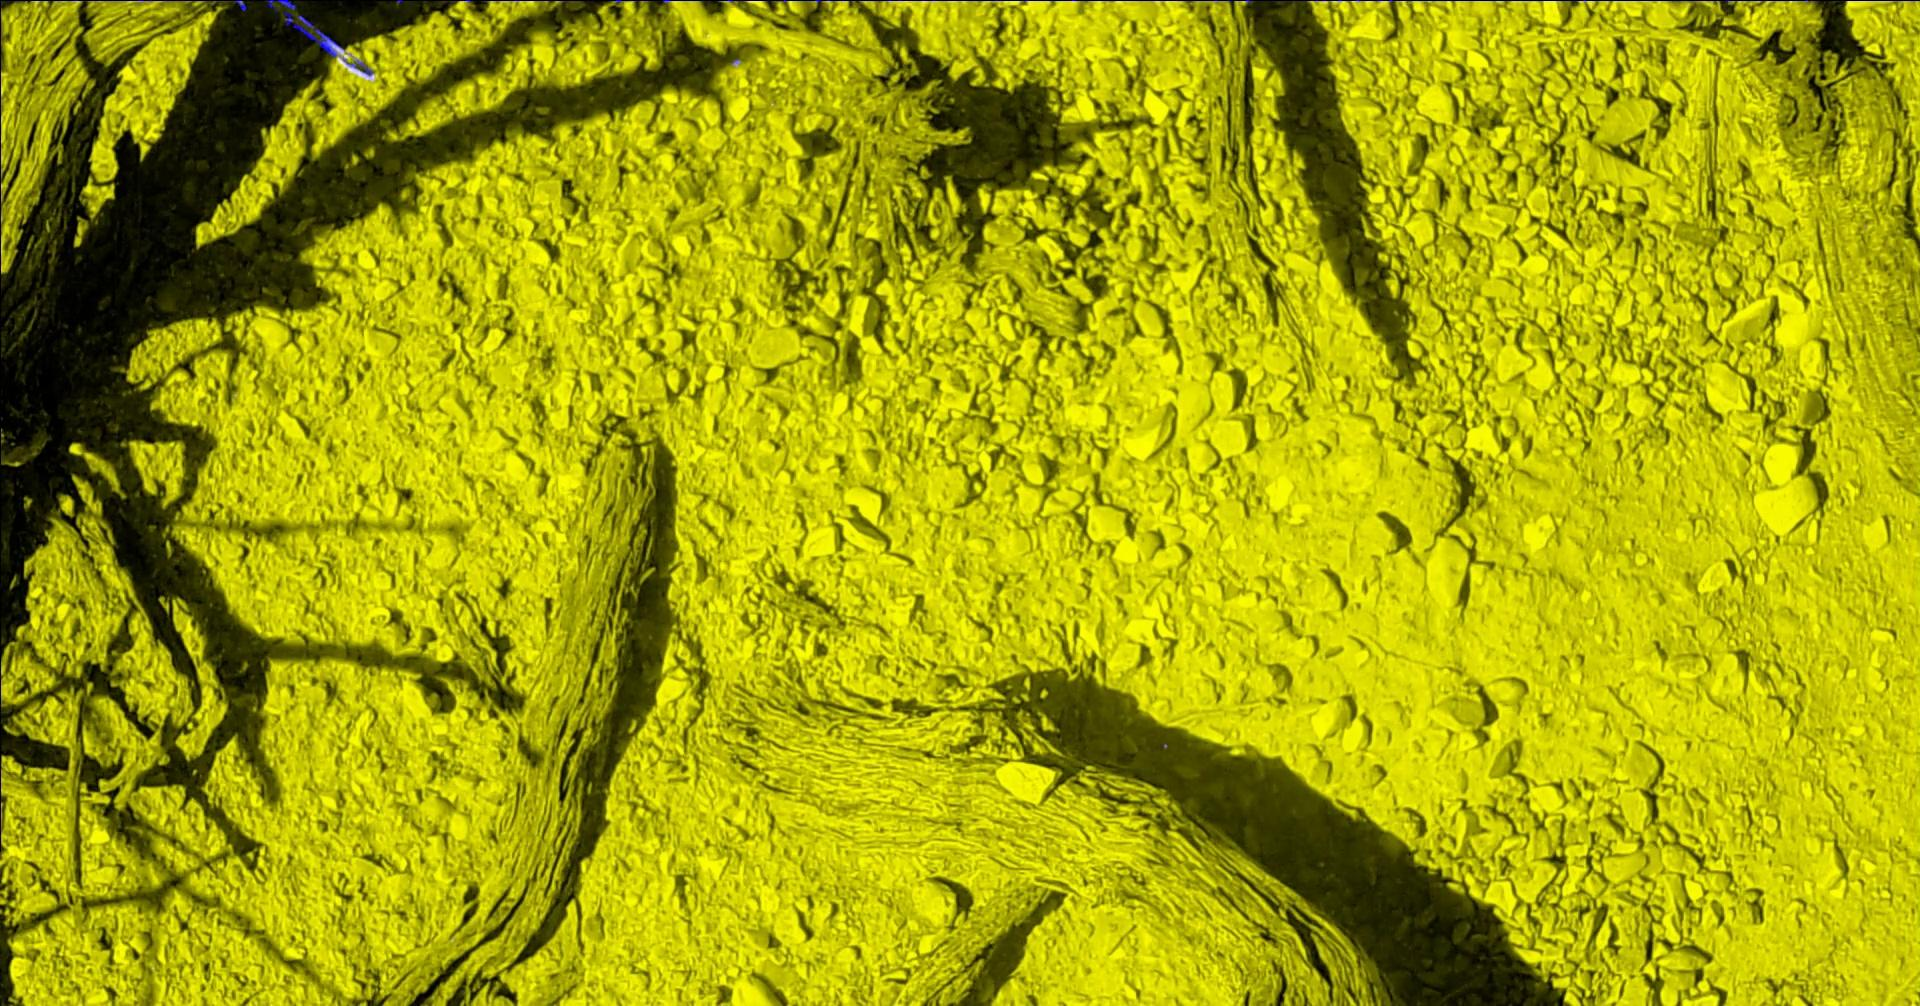ant: (264, 0, 343, 57), (342, 58, 372, 75), (203, 0, 246, 11)
